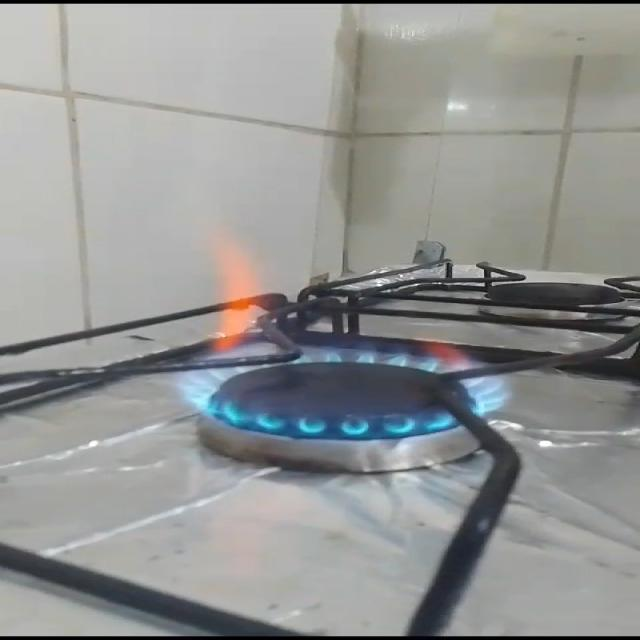fogo-ypXI: (161, 213, 511, 441)
